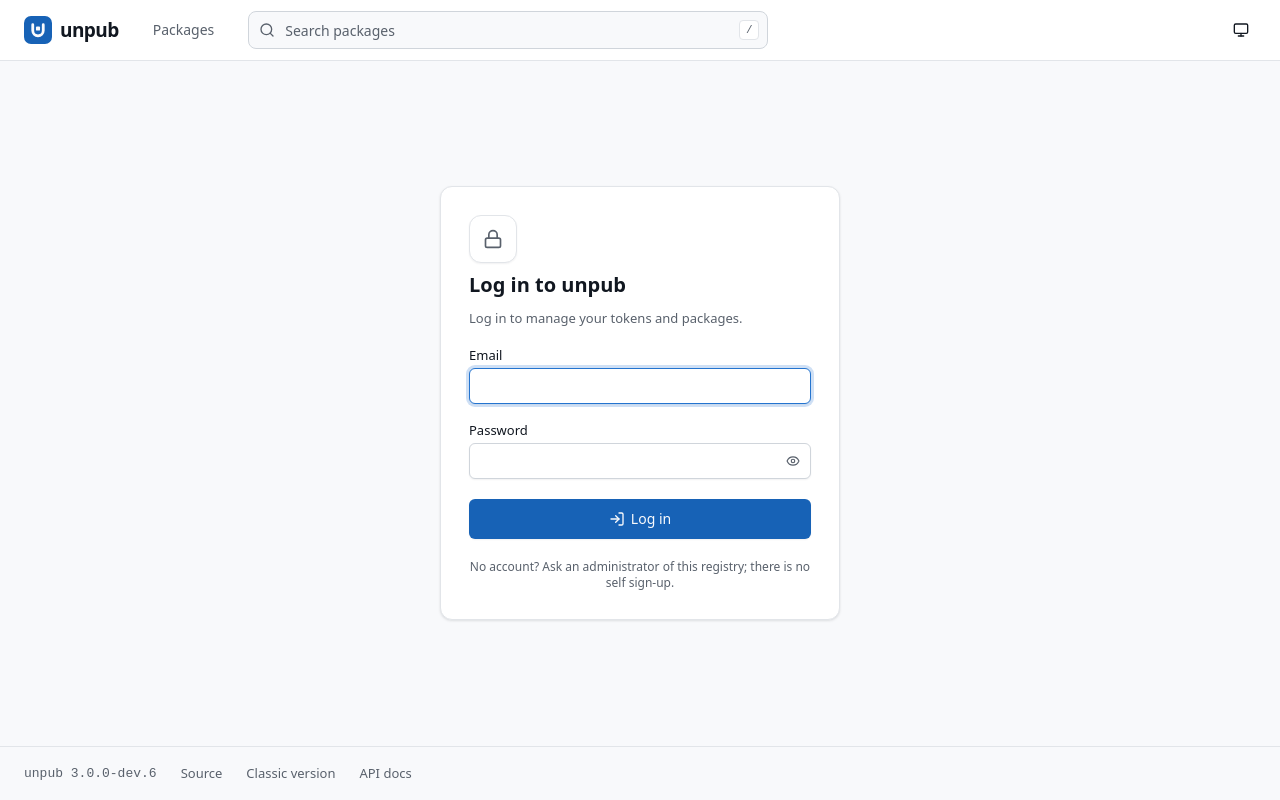
Test: login › logs in and goes back to the page in next
Type "admin@company.example" into the field labelled "Email" at (640, 386), box [469,368,811,404]
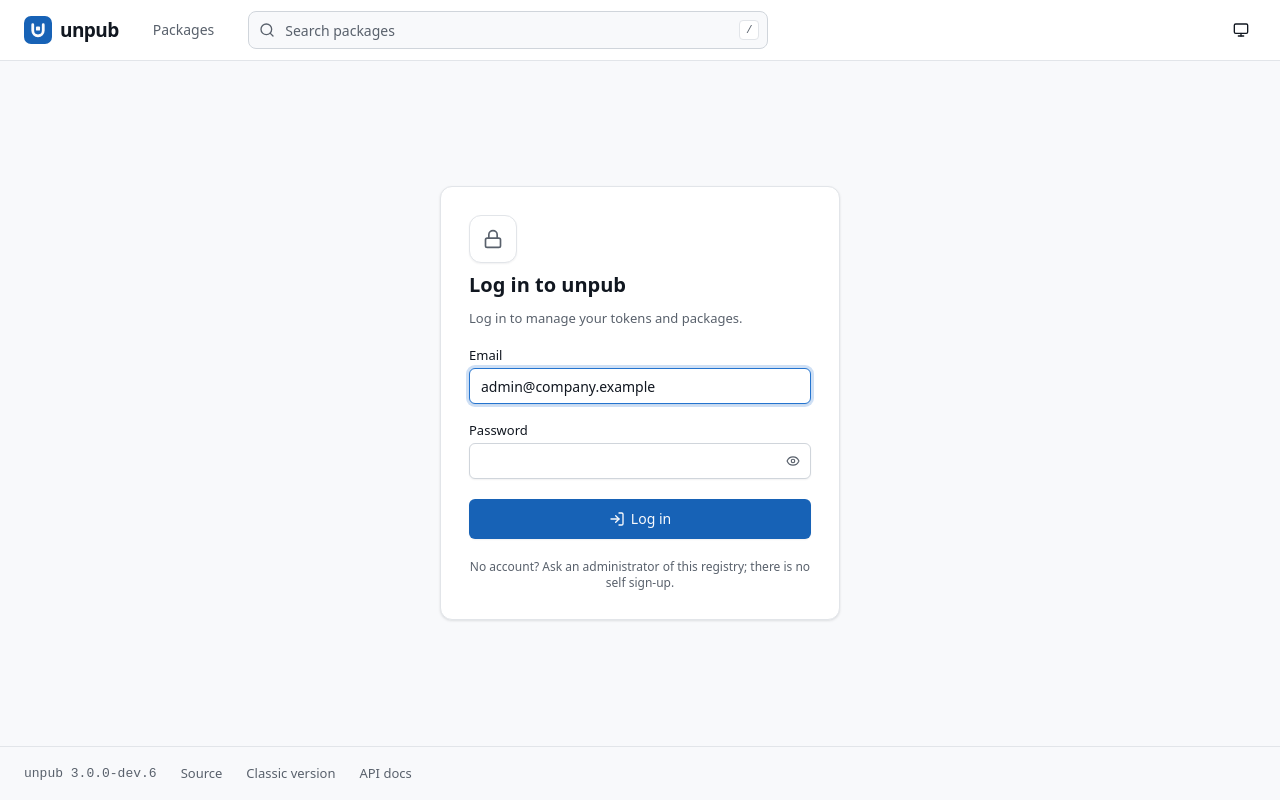
Type "wrong" into the password field labelled "Password" at (640, 461), box [469,443,811,479]
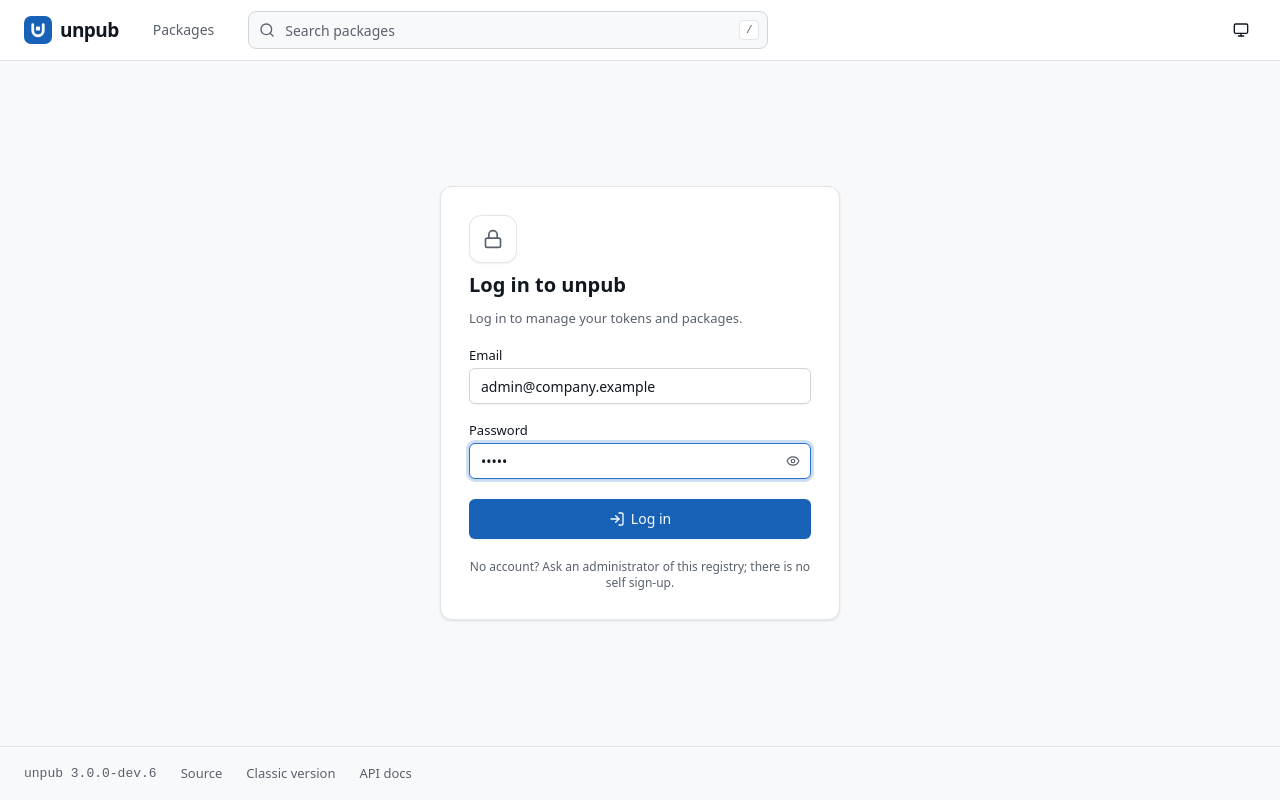
Click the button "Log in" at (640, 519), box [469,499,811,539]
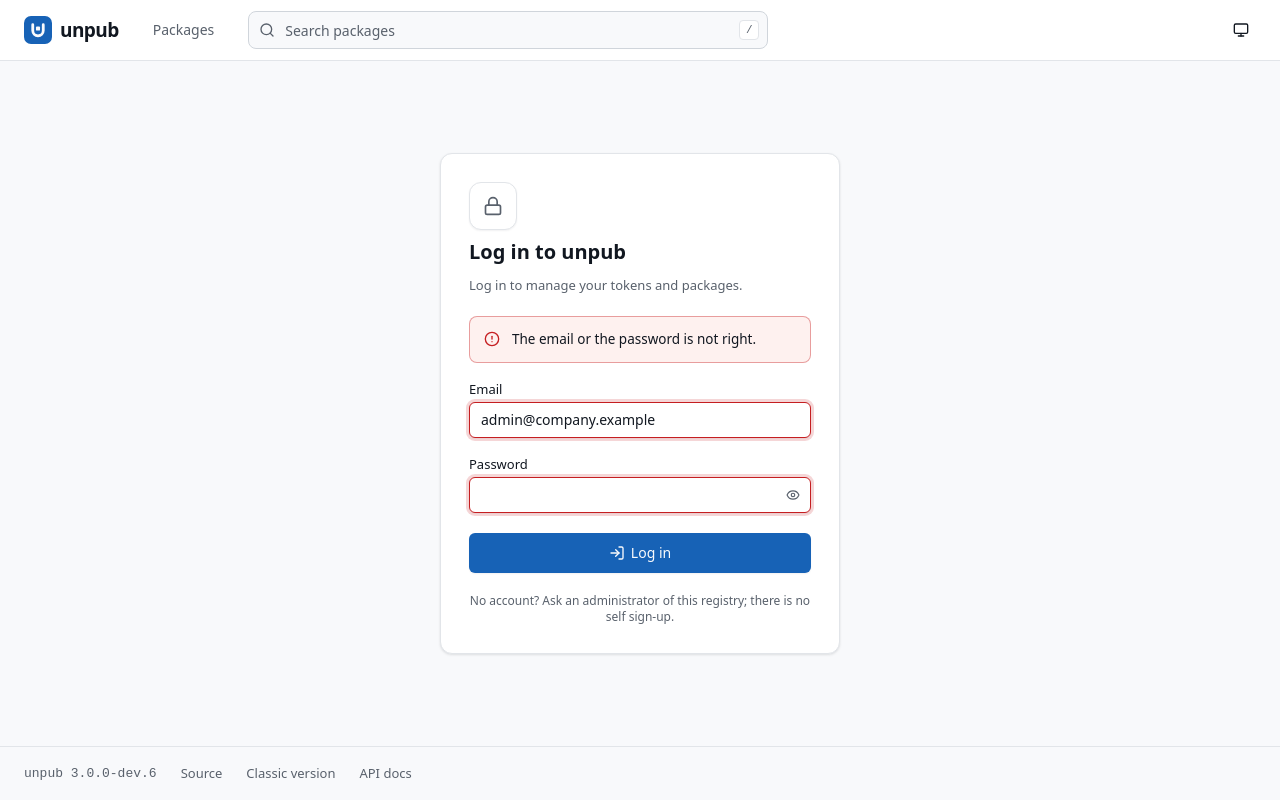
Now the message reads "The email or the password is not right.", box [512,330,756,348]
Now the password field labelled "Password" is empty
Type "right-password" into the password field labelled "Password" at (640, 495), box [469,477,811,513]
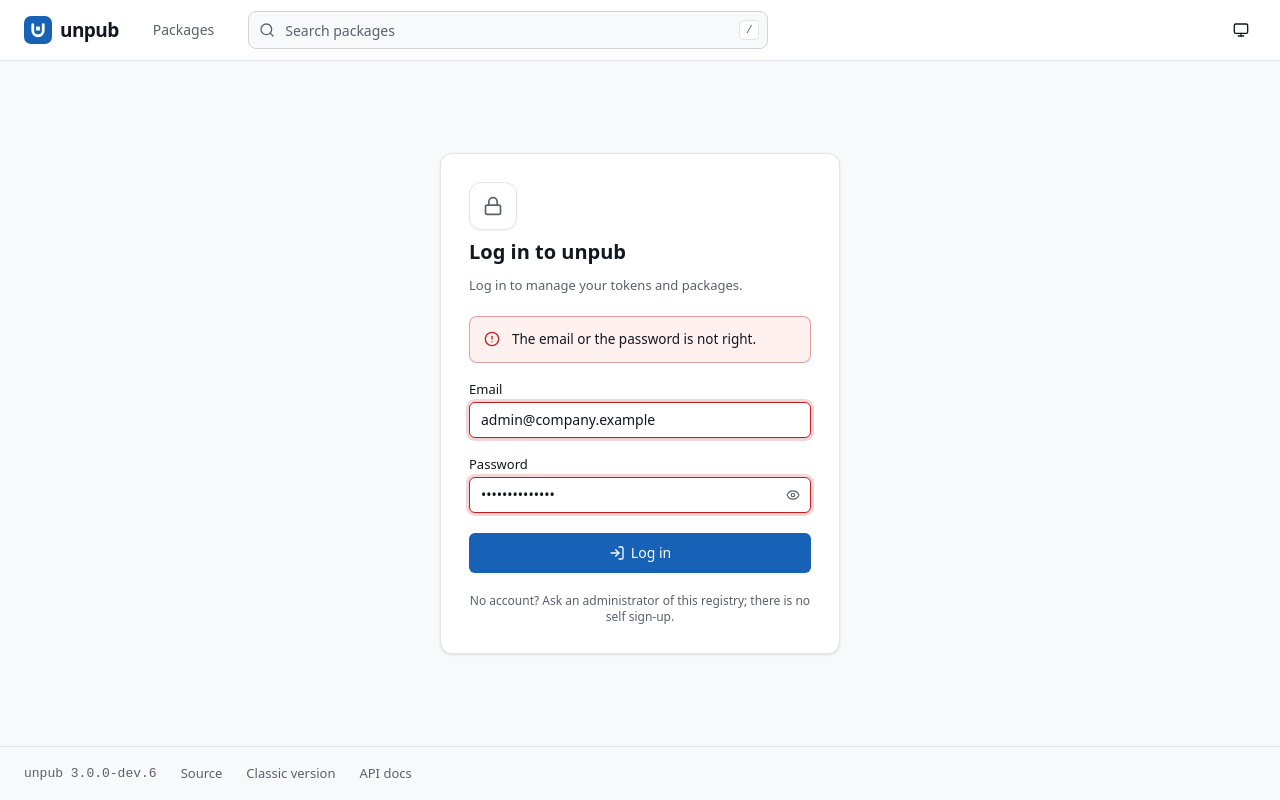
Click the button "Log in" at (640, 553), box [469,533,811,573]
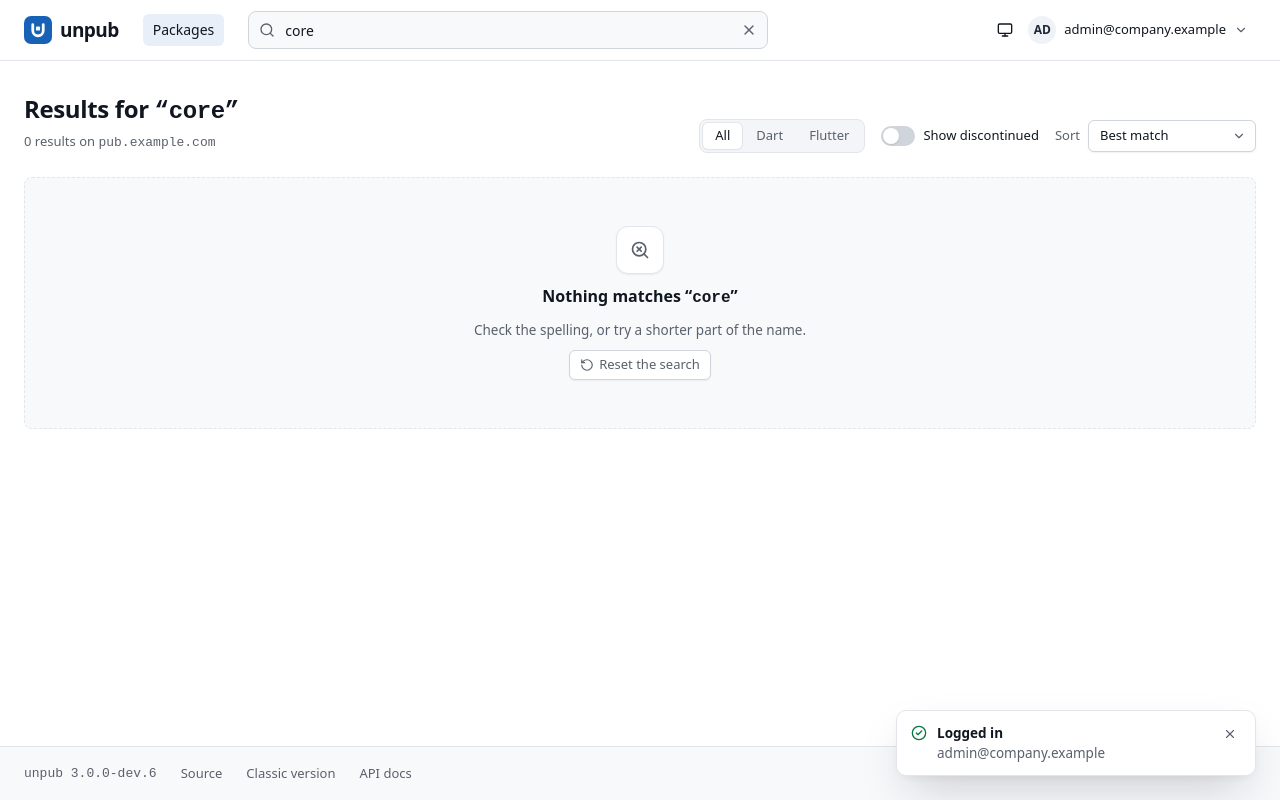
Now the button with aria-label "Account menu for admin@company.example" is shown, box [1024,12,1256,48]
